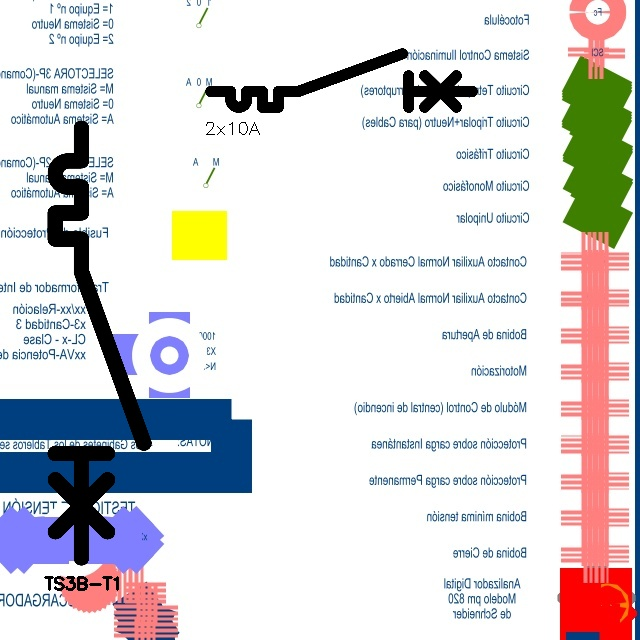interruptor_termomagnetico: (44, 117, 154, 569), (204, 47, 479, 114)
